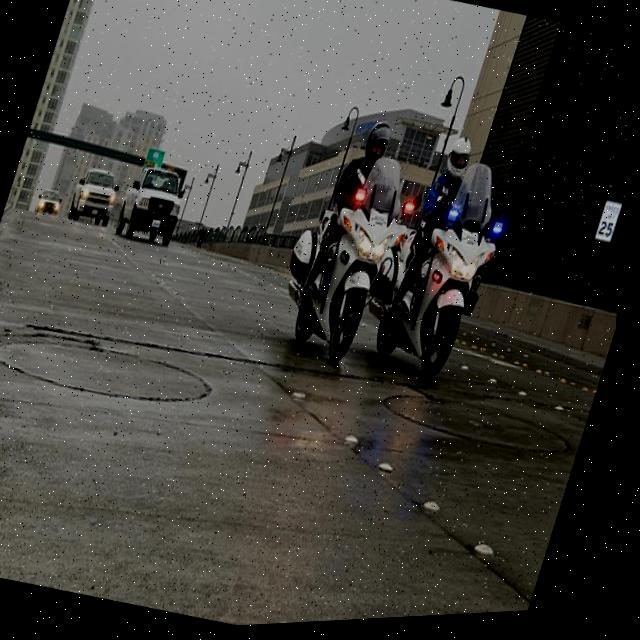car: (116, 149, 199, 250), (61, 154, 128, 229)
motorcycle: (264, 190, 408, 374), (361, 207, 504, 391)
